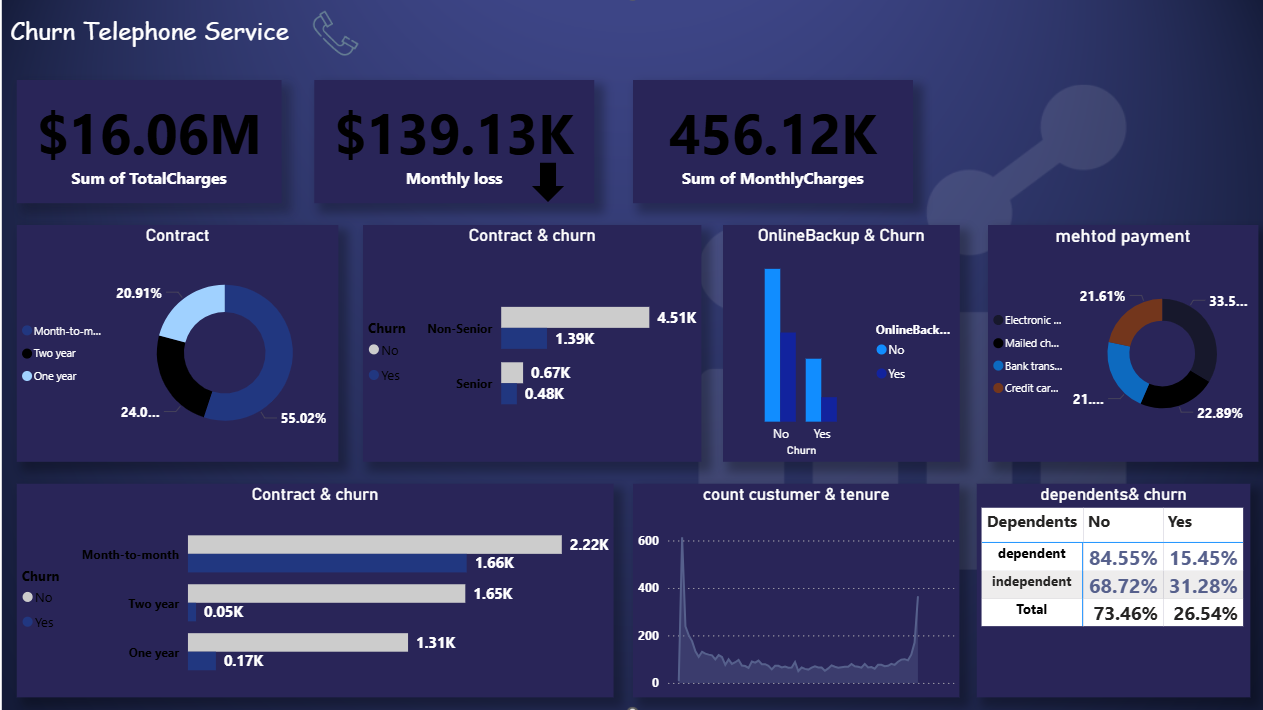

What the dashboard file says about the page in this screenshot:
{"tool":"powerbi","page":{"name":"Page 2","canvas":[1280,720],"ordinal":1},"visuals":[{"type":"shape","title":"contract & churn","box":[0,0,1280,720],"z":0},{"type":"card","fields":{"Values":["Sum(fin.TotalCharges)"]},"box":[23.3,85,265,123.3],"z":1000},{"type":"card","fields":{"Values":["fin.total losing"]},"box":[640,85,271.7,123.3],"z":2000},{"type":"card","fields":{"Values":["fin.total now"]},"box":[321.7,85,280,123.3],"z":3000},{"type":"donutChart","title":"Contract","fields":{"Category":["fin.Contract"],"Y":["CountNonNull(fin.Contract)"]},"box":[23.3,230,321.7,236.7],"z":4000},{"type":"clusteredBarChart","title":" Contract & churn","fields":{"Category":["fin.Contract"],"Y":["CountNonNull(fin.Churn)"],"Series":["fin.Churn"]},"box":[23.3,488.3,596.7,213.3],"z":5000},{"type":"pivotTable","title":"dependents& churn","fields":{"Rows":["fin.Dependents"],"Columns":["fin.Churn"],"Values":["CountNonNull(fin.Churn)"]},"box":[983.3,488.3,273.3,213.3],"z":6000},{"type":"image","box":[1091.7,85,140,133.3],"z":7000},{"type":"areaChart","title":"count custumer & tenure","fields":{"Y":["CountNonNull(fin.Churn)"],"Category":["fin.tenure"]},"box":[640,488.3,326.7,213.3],"z":8000},{"type":"clusteredBarChart","title":" Contract & churn","fields":{"Y":["CountNonNull(fin.Churn)"],"Series":["fin.Churn"],"Category":["fin.SeniorCitizen"]},"box":[370,230,338.3,236.7],"z":9000},{"type":"clusteredColumnChart","title":"OnlineBackup & Churn ","fields":{"Category":["fin.Churn"],"Y":["CountNonNull(fin.OnlineBackup)"],"Series":["fin.OnlineBackup"]},"box":[730,230,236.7,236.7],"z":10000},{"type":"textbox","box":[5.5,37,680.6,48],"z":11000},{"type":"image","box":[300.5,26.1,70,59],"z":12000},{"type":"donutChart","title":"mehtod payment ","fields":{"Category":["fin.PaymentMethod"],"Y":["CountNonNull(fin.PaymentMethod)"]},"box":[995,230,270,236.7],"z":13000}]}

Visuals, with their boxes in screenshot pixels (x1, y1, x2, y2), scaled from the page's 1280x720 canvas onto the 1263x710 screenshot:
"contract & churn" shape: (x1=0, y1=0, x2=1262, y2=709)
card - Sum(fin.TotalCharges): (x1=23, y1=84, x2=284, y2=205)
card - fin.total losing: (x1=632, y1=84, x2=900, y2=205)
card - fin.total now: (x1=317, y1=84, x2=594, y2=205)
"Contract" donutChart: (x1=23, y1=227, x2=340, y2=460)
" Contract & churn" clusteredBarChart: (x1=23, y1=482, x2=612, y2=692)
"dependents& churn" pivotTable: (x1=970, y1=482, x2=1240, y2=692)
image: (x1=1077, y1=84, x2=1215, y2=215)
"count custumer & tenure" areaChart: (x1=632, y1=482, x2=954, y2=692)
" Contract & churn" clusteredBarChart: (x1=365, y1=227, x2=699, y2=460)
"OnlineBackup & Churn " clusteredColumnChart: (x1=720, y1=227, x2=954, y2=460)
textbox: (x1=5, y1=36, x2=677, y2=84)
image: (x1=297, y1=26, x2=366, y2=84)
"mehtod payment " donutChart: (x1=982, y1=227, x2=1248, y2=460)
